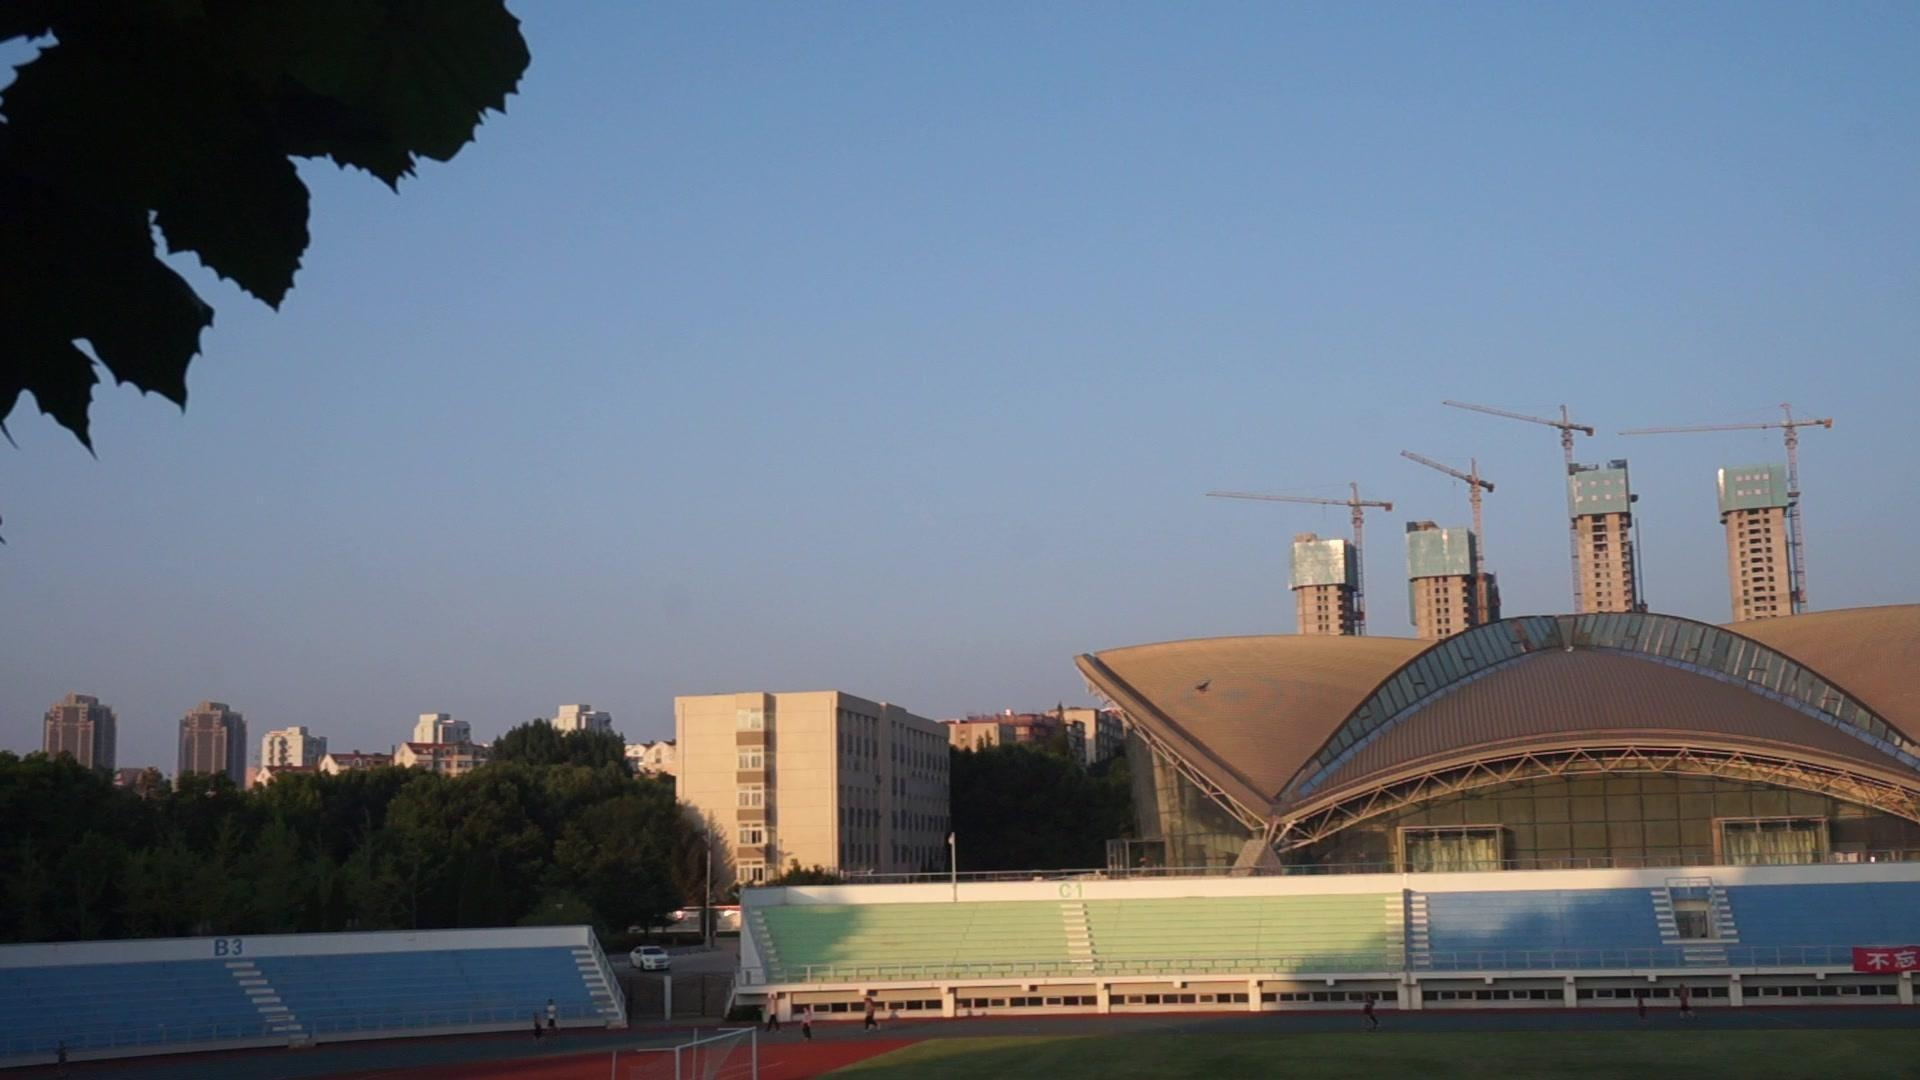UAV: (1193, 680, 1215, 695)
